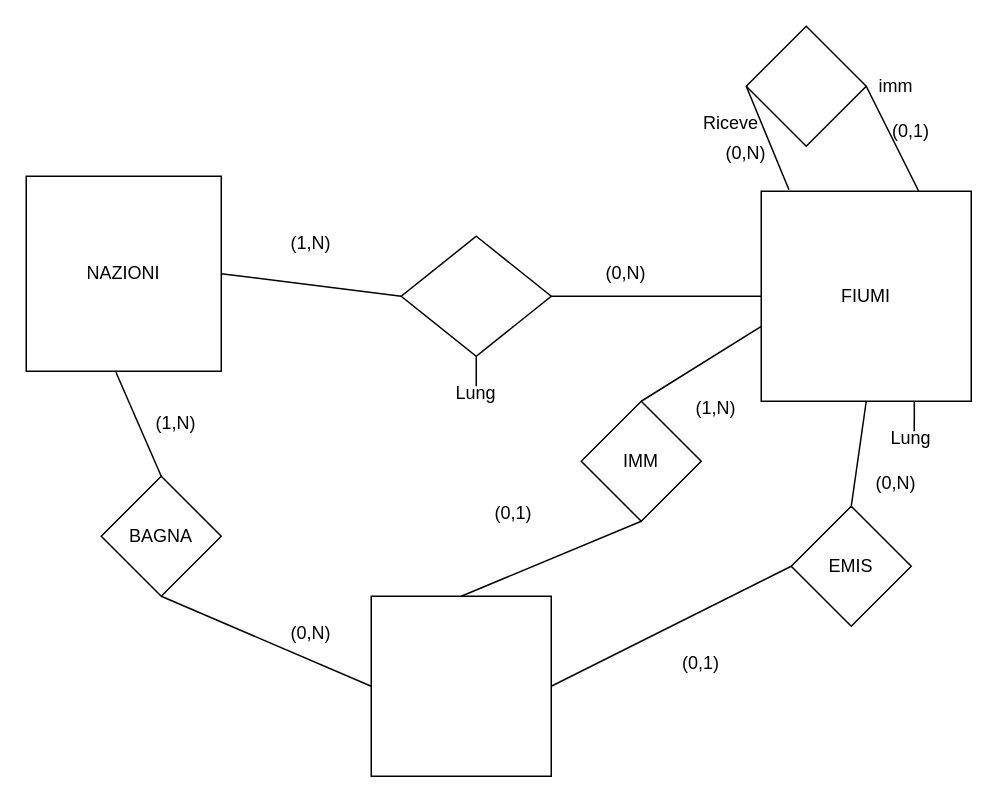
Some shapes in this 998 by 803 pixel diagram are drawn without their labels. Each missing label, with the box of its shape:
AFF: (745, 25, 866, 146)
ATTRAVERSA: (400, 235, 551, 356)
LAGHI: (370, 595, 551, 776)
